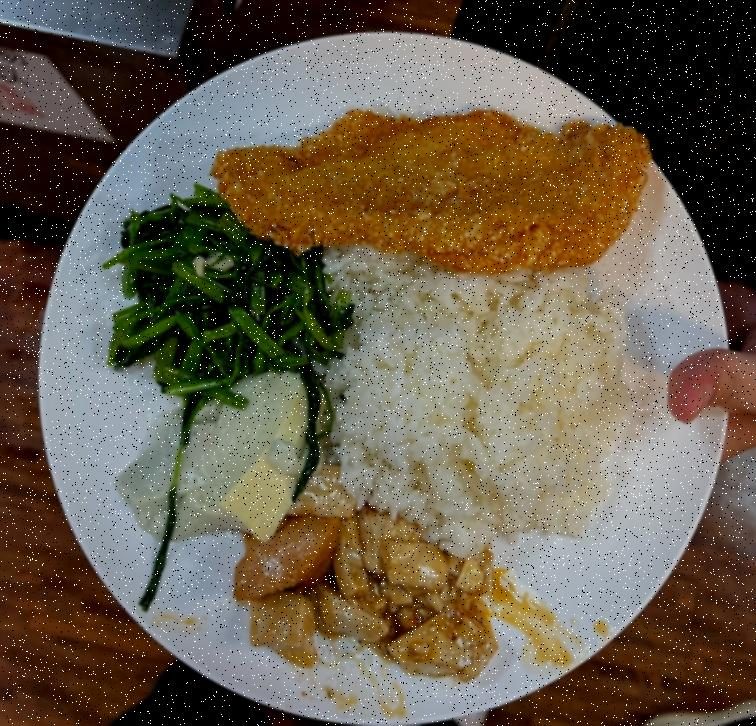chicken steak: (200, 106, 659, 280)
plate: (36, 26, 750, 720)
side dish: (110, 194, 346, 396), (232, 512, 496, 685), (111, 368, 326, 544)
white rice: (330, 254, 644, 537)
